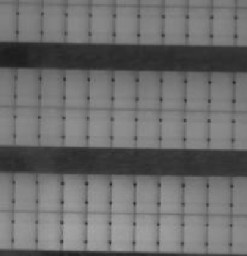solar: (111, 68, 141, 110), (134, 68, 164, 110), (159, 69, 189, 111), (183, 69, 213, 111), (207, 69, 237, 111), (11, 104, 41, 146), (37, 105, 67, 147), (60, 105, 90, 147), (84, 105, 114, 147), (109, 105, 139, 147), (133, 106, 163, 148), (157, 107, 187, 149), (182, 108, 212, 150), (207, 108, 237, 150), (9, 170, 39, 212), (34, 171, 64, 213), (60, 171, 90, 213), (83, 173, 113, 215), (107, 173, 137, 215), (132, 174, 162, 216), (156, 175, 186, 217), (179, 175, 209, 217), (204, 175, 234, 217), (9, 209, 39, 251), (34, 208, 64, 250), (59, 210, 89, 252), (83, 210, 113, 252), (106, 210, 136, 252), (131, 210, 161, 252), (155, 210, 185, 252), (179, 212, 209, 254), (204, 212, 234, 254), (12, 67, 42, 108), (37, 67, 67, 108), (63, 68, 93, 109), (85, 68, 115, 109), (14, 1, 44, 42), (39, 2, 69, 43), (62, 2, 92, 43), (87, 2, 117, 43), (111, 3, 141, 44), (137, 4, 167, 45), (160, 4, 190, 45), (185, 4, 215, 45), (209, 5, 239, 46)
